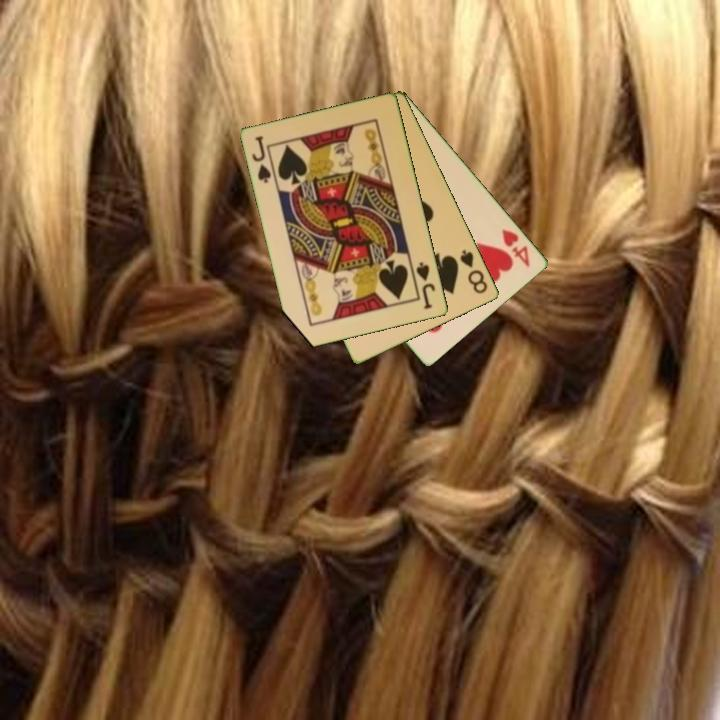4h: (498, 225, 533, 270)
8s: (457, 246, 491, 297)
Js: (413, 259, 439, 312), (249, 133, 274, 186)
